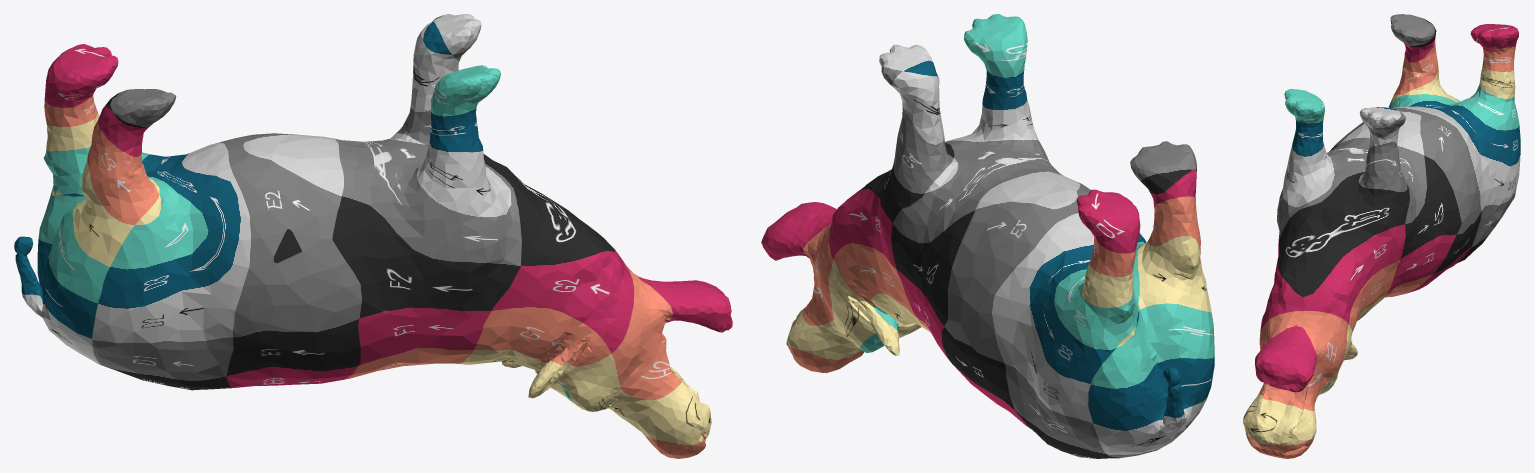
The model's file is cougar_02-hippo_05.obj.
The picture shows the model from 3 angles, left to right: view 1: azimuth 30°, elevation 25°; view 2: azimuth 150°, elevation 25°; view 3: azimuth 270°, elevation 25°; orthographic projection. The views are drawn at different scales.
Visible parts, largest first — view 1: cougar_02-hippo_05_export; view 2: cougar_02-hippo_05_export; view 3: cougar_02-hippo_05_export.
Boxes of the visible parts, <box> form: cougar_02-hippo_05_export: <box>14,14,732,458</box>; cougar_02-hippo_05_export: <box>761,14,1214,458</box>; cougar_02-hippo_05_export: <box>1243,14,1520,458</box>.
Size of the model in its own units: 0.8678 by 0.6137 by 0.521.
